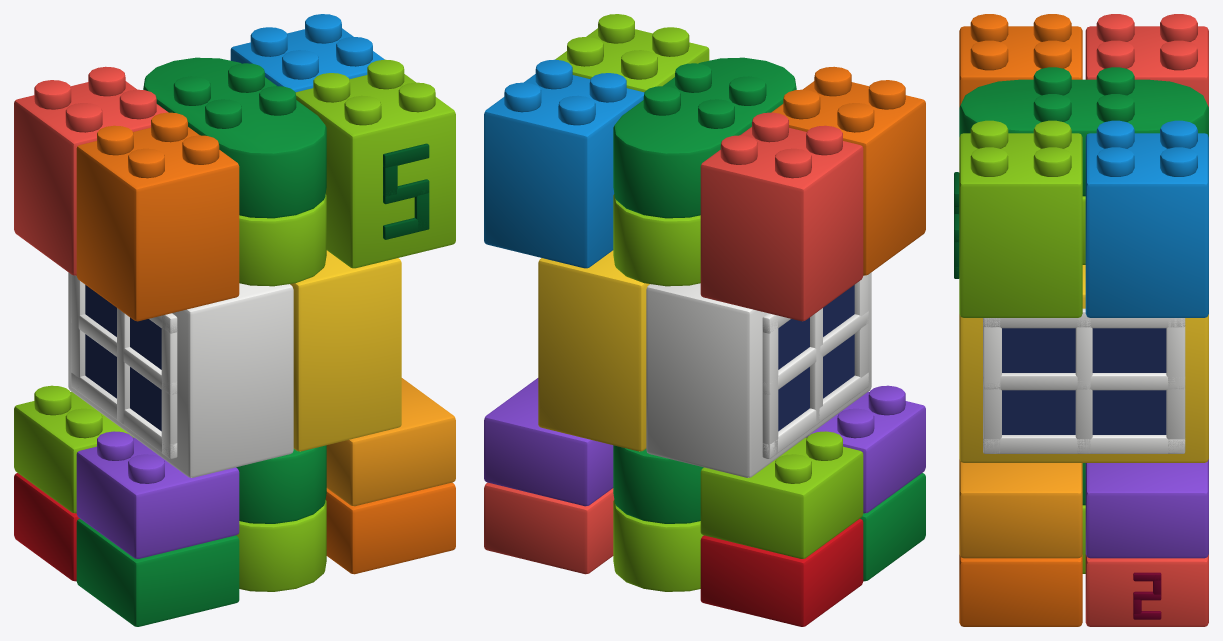
The model's file is duplo_laden.glb.
3 renders of one model, left to right at view 1: azimuth 30°, elevation 25°; view 2: azimuth 150°, elevation 25°; view 3: azimuth 270°, elevation 25°, orthographic.
Parts seen in each view (by area): view 1: duplo_laden; view 2: duplo_laden; view 3: duplo_laden.
Boxes of the visible parts, x1,y1,x2,y2 form: duplo_laden: (14,14,455,626); duplo_laden: (484,14,925,626); duplo_laden: (954,14,1208,626).
Bounding box in the file's own units: 4.11 × 5.5 × 2.75.
